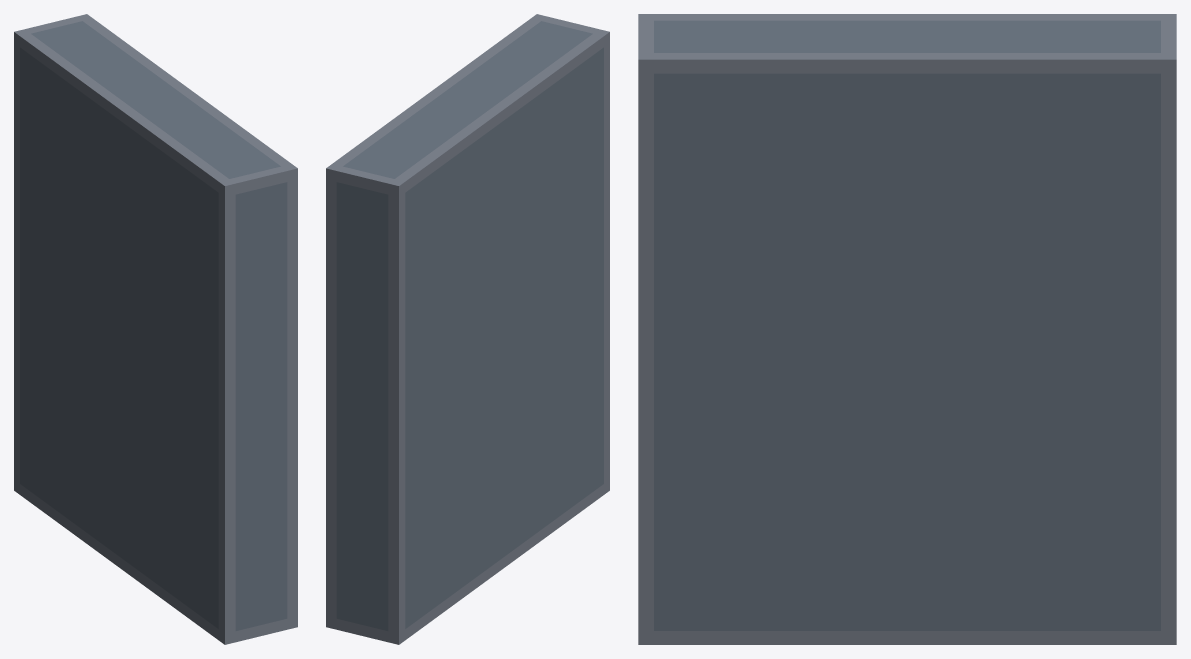
File: Wall_D_1_1.obj
3 views of the same model, side by side, from view 1: azimuth 30°, elevation 25°; view 2: azimuth 150°, elevation 25°; view 3: azimuth 270°, elevation 25° (orthographic). The views are drawn at different scales.
Parts seen in each view (by area): view 1: Wall_D_1_1; view 2: Wall_D_1_1; view 3: Wall_D_1_1.
Boxes of the visible parts, <box> form: Wall_D_1_1: <box>14,14,297,644</box>; Wall_D_1_1: <box>326,14,609,644</box>; Wall_D_1_1: <box>638,14,1176,644</box>.
Size of the model in its own units: 0.4 by 2.4 by 2.
